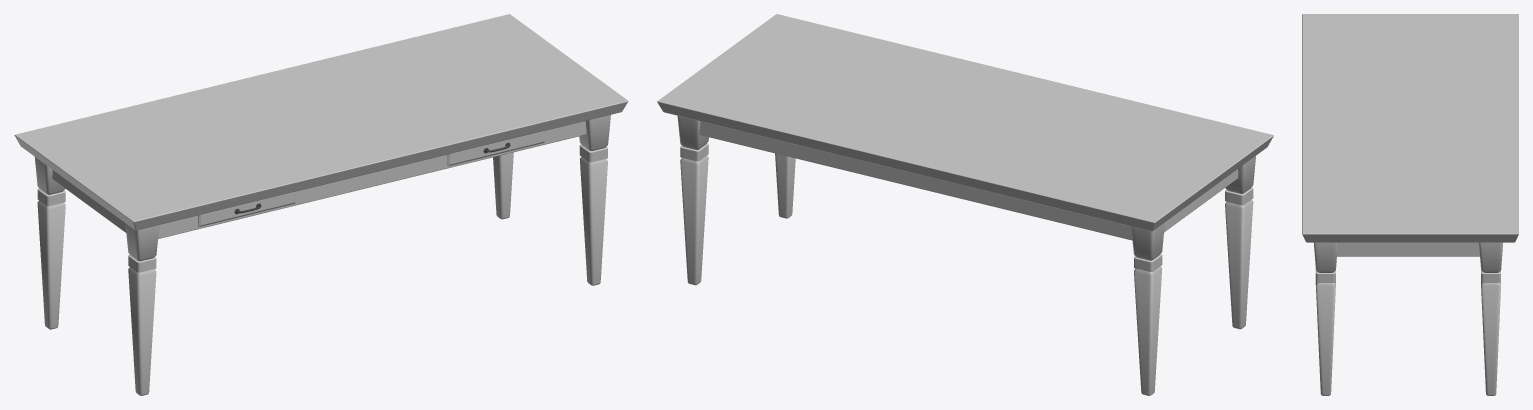
The model's file is Desk.fbx.
3 renders of one model, left to right at view 1: azimuth 30°, elevation 25°; view 2: azimuth 150°, elevation 25°; view 3: azimuth 270°, elevation 25°, orthographic. The views are drawn at different scales.
Visible parts, largest first — view 1: DeskPlate, Desk, DrawerRight, DrawerLeft; view 2: DeskPlate, Desk; view 3: DeskPlate, Desk.
Part boxes in pixels (x1=…): DeskPlate: x1=14, y1=14, x2=628, y2=238; Desk: x1=34, y1=115, x2=610, y2=395; DrawerRight: x1=447, y1=131, x2=544, y2=166; DrawerLeft: x1=198, y1=191, x2=295, y2=226; DeskPlate: x1=657, y1=14, x2=1273, y2=240; Desk: x1=677, y1=116, x2=1255, y2=395; DeskPlate: x1=1302, y1=14, x2=1518, y2=256; Desk: x1=1314, y1=242, x2=1502, y2=395.
Bounding box in the file's own units: 213 × 76.76 × 88.48.
